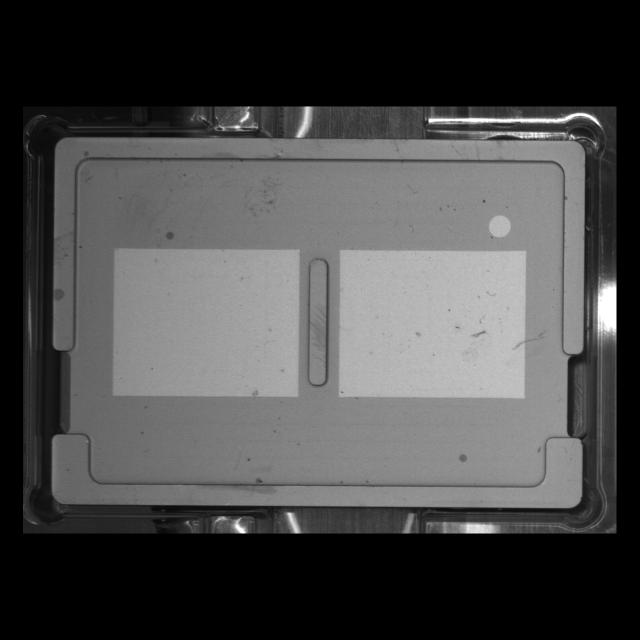door: (41, 420, 591, 522)
point: (484, 210, 518, 244)
